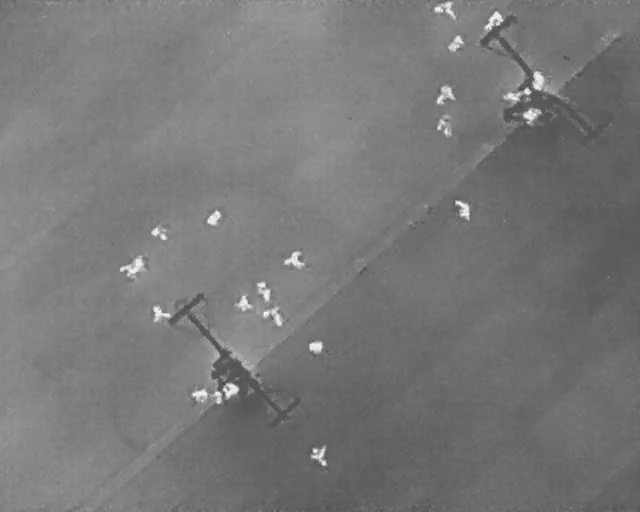Person: (116, 250, 152, 286), (480, 6, 508, 36), (501, 85, 533, 104), (445, 32, 467, 56), (436, 83, 457, 104), (262, 307, 284, 327), (432, 2, 456, 19), (522, 107, 544, 125), (256, 279, 272, 302), (285, 250, 305, 268), (309, 446, 327, 466), (234, 293, 253, 311), (437, 115, 453, 136), (455, 198, 470, 220), (206, 209, 223, 227), (222, 382, 239, 400), (152, 306, 171, 322), (532, 68, 545, 91), (150, 225, 167, 241), (192, 389, 208, 404), (308, 341, 323, 355)
